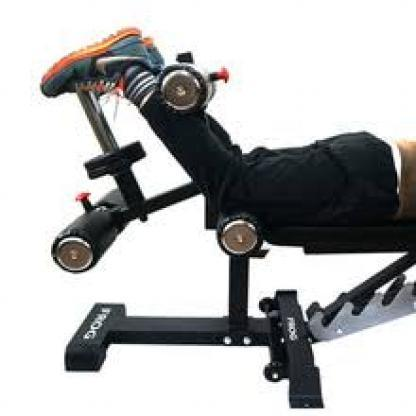reg curl machine: (25, 22, 416, 406)
